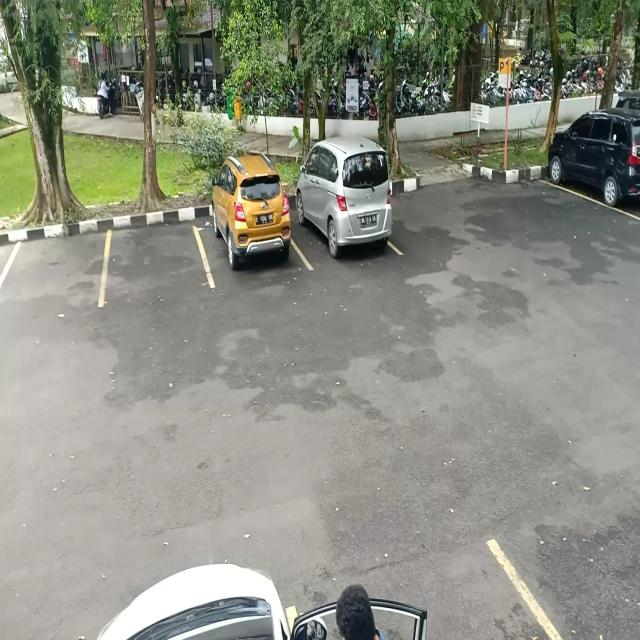empty: (0, 226, 110, 330), (100, 205, 208, 310)
occupied: (295, 155, 395, 270), (204, 170, 297, 289)
